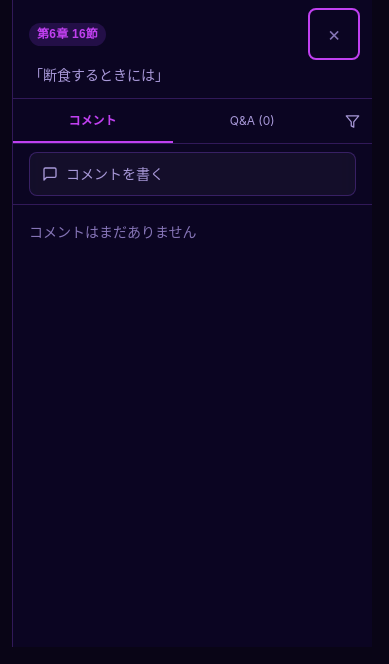
CommentPanel の「引用した記事」タブ › 並び替えと検索は畳んであり、絞り込みボタンで開く
expect the search field labelled "表示中のコメントを絞り込む" is not shown: met
expect the button "新しい順" is not shown: met
Step 1. Click the button named "並び替えと検索" → (352, 121), box [332,99,372,143]
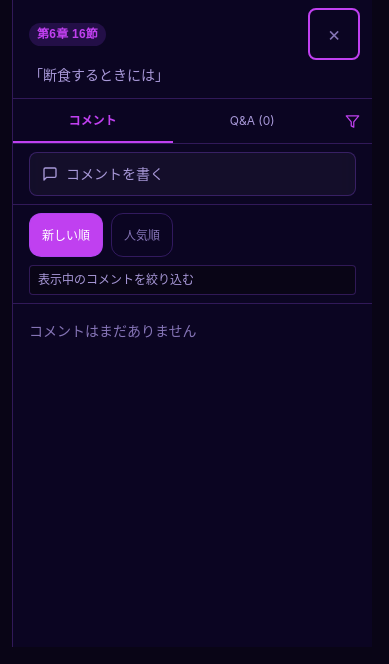
expect the button named "並び替えと検索" is expanded: met
expect the search field labelled "表示中のコメントを絞り込む" is shown: met, box [29,265,356,295]
expect the button "新しい順" is shown: met, box [29,213,103,257]
Step 2. Click the button named "並び替えと検索" → (352, 121), box [332,99,372,143]
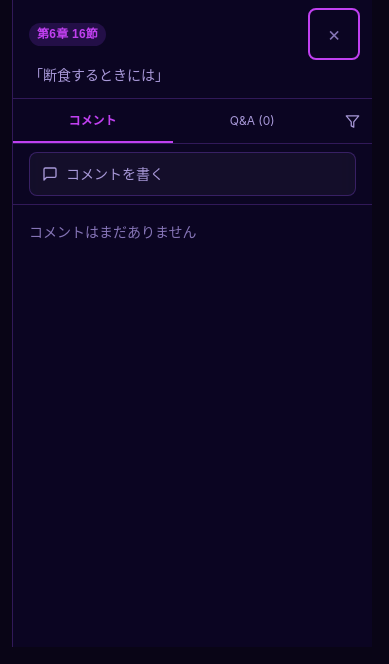
expect the search field labelled "表示中のコメントを絞り込む" is gone: met
